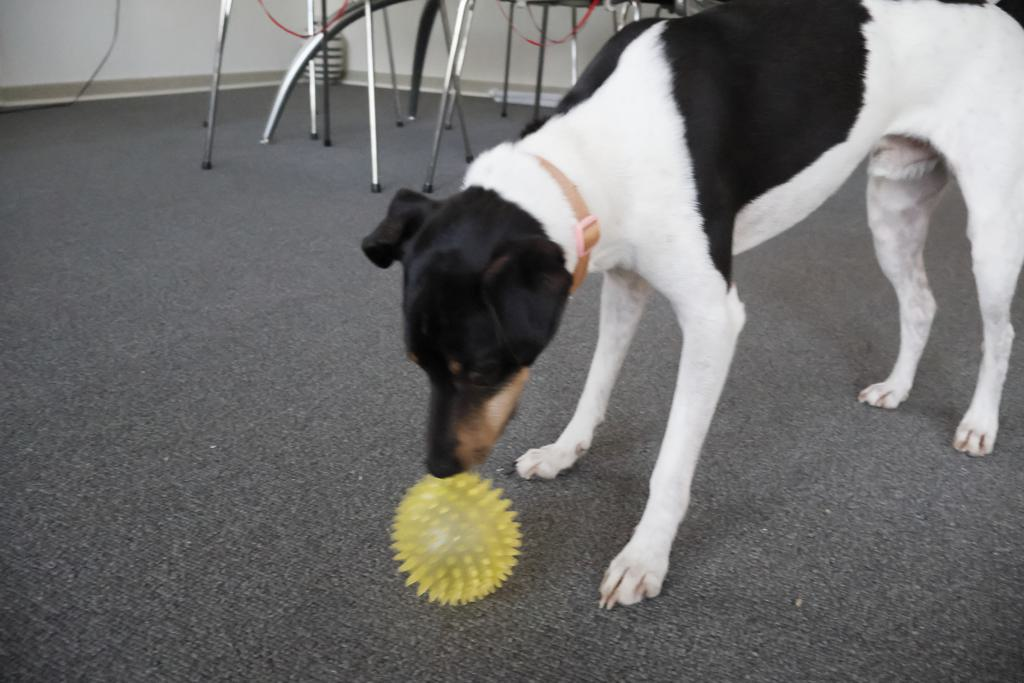Dog: (349, 0, 1024, 619)
